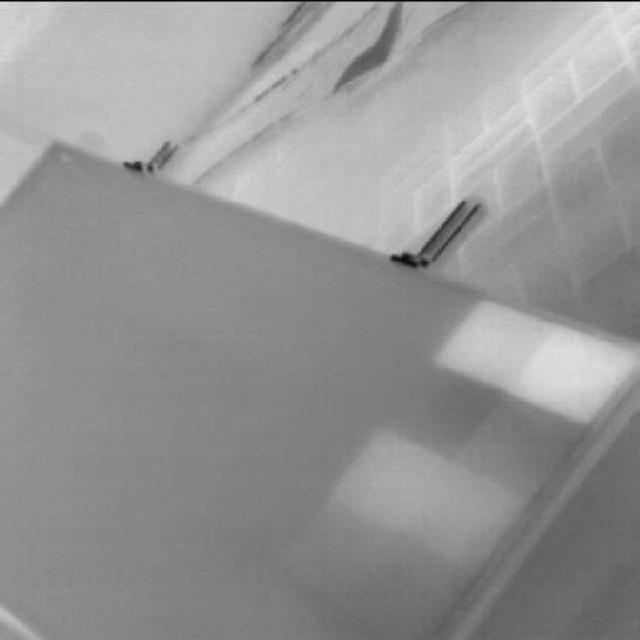hotspot: (434, 294, 632, 434)
